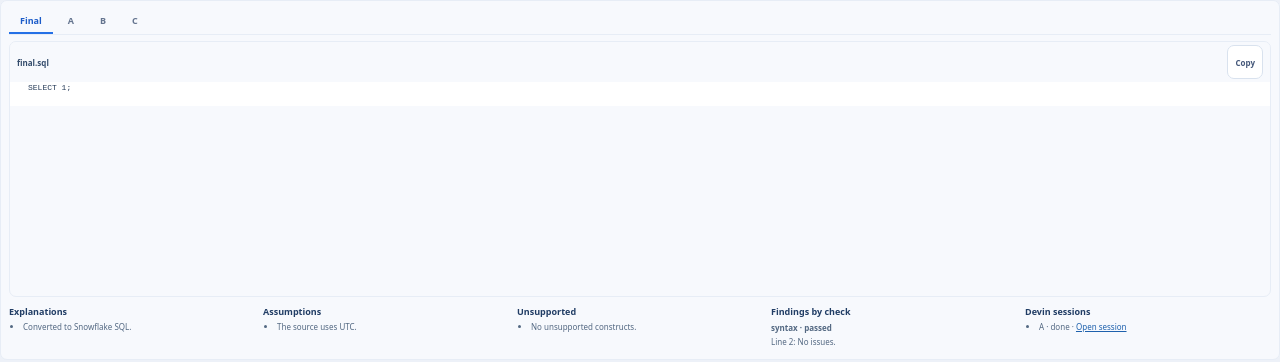
Test: Convert Objects › labels candidate files that have no matching final file
Click the tab "B" at x=103, y=22, box [89,9,117,34]
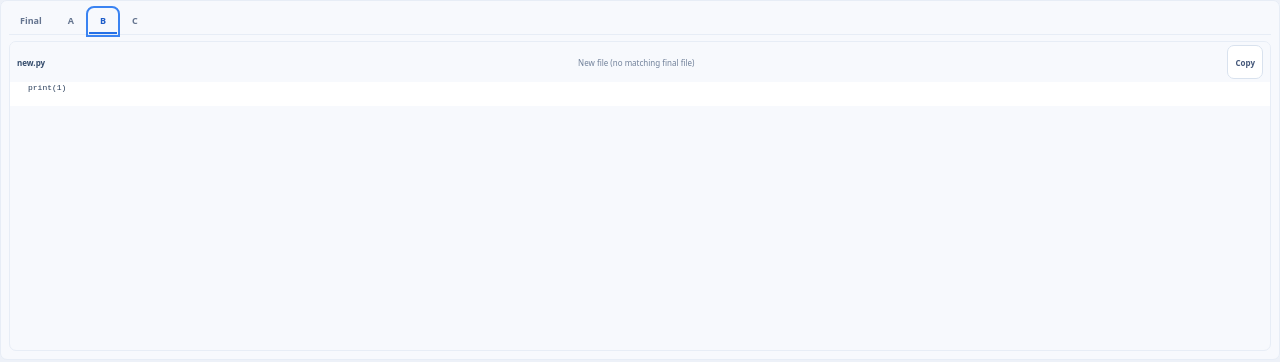
Expected: the text "New file (no matching final file)" is shown, [578,56,694,68]
